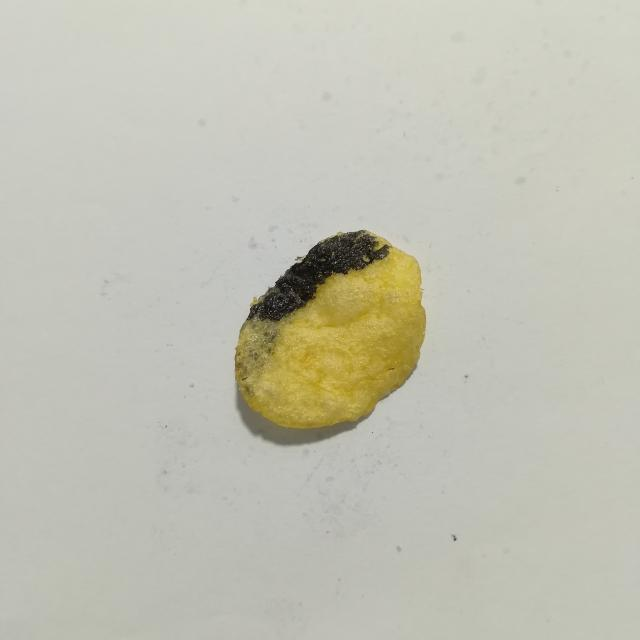chip: (235, 230, 426, 428)
damaged: (247, 230, 390, 320)
semi-damaged: (235, 319, 280, 397)
